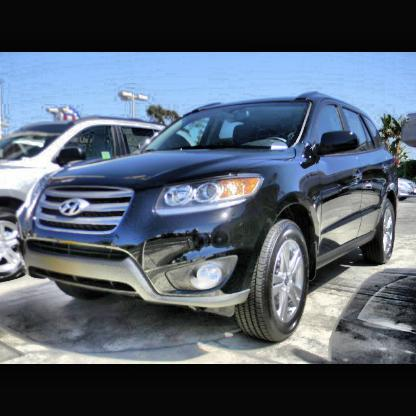Hyundai Santa Fe SUV 2012: (16, 85, 407, 353)
